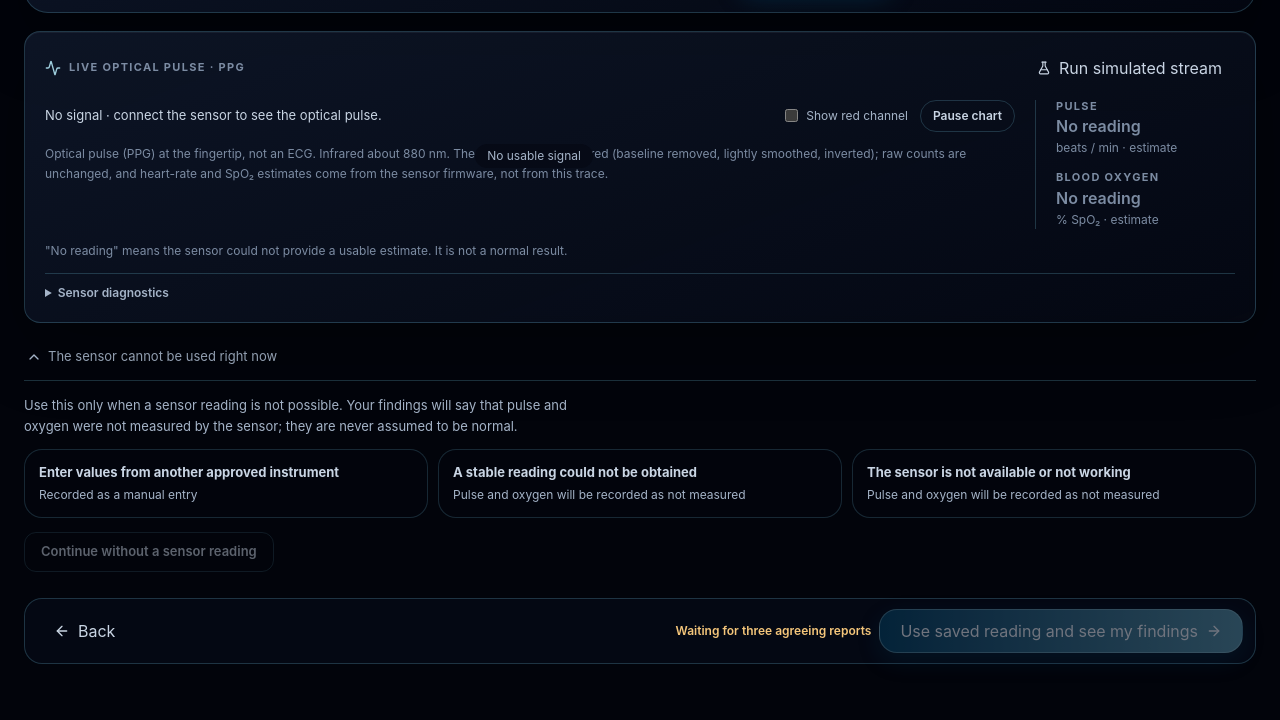
it: MeasurePage › accepts values from another instrument through the fallback only
The image size is (1280, 720).
Earlier steps of the test are not shown.
Later steps or results of the test are not shown.
(page scrolled)
Click the radio button labelled "Enter values from another approved instrument".
click(189, 472)  # box [24, 449, 428, 518]
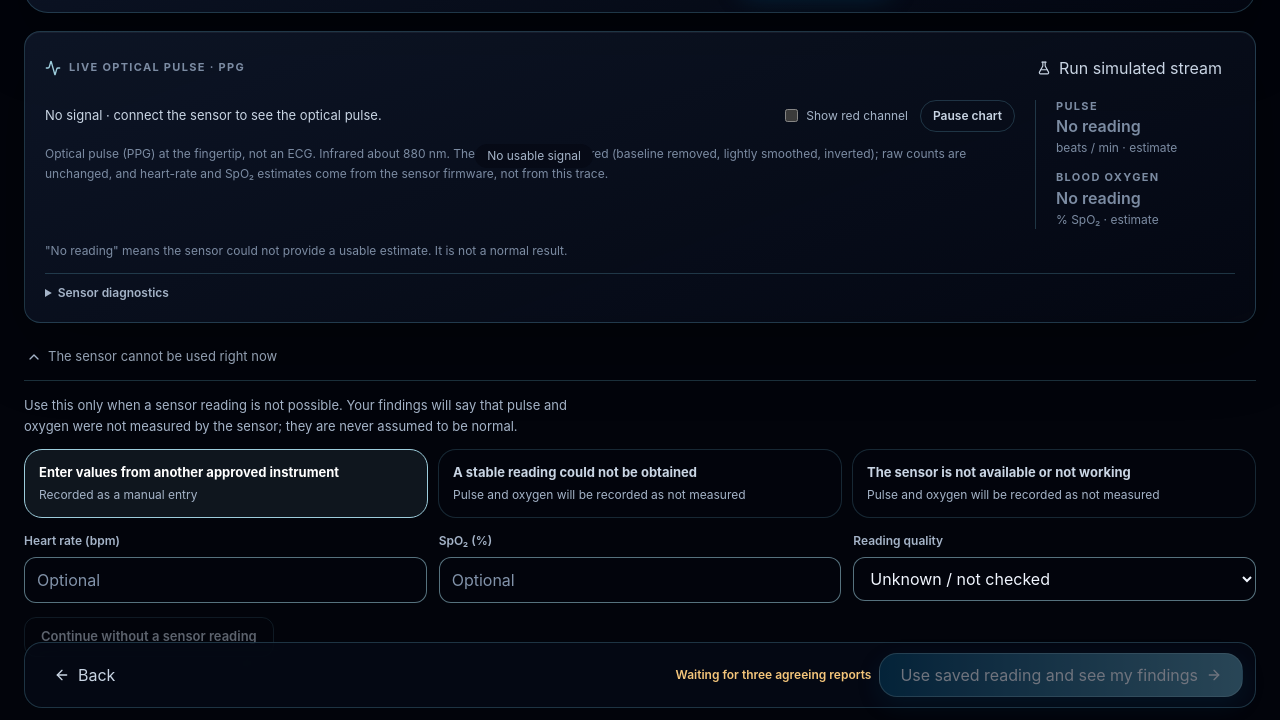
Now the button "Continue without a sensor reading" is disabled, box [24, 616, 274, 656]
Type "abc" into the field labelled "SpO₂ (%)".
click(640, 580); type("abc")  # box [439, 556, 841, 602]
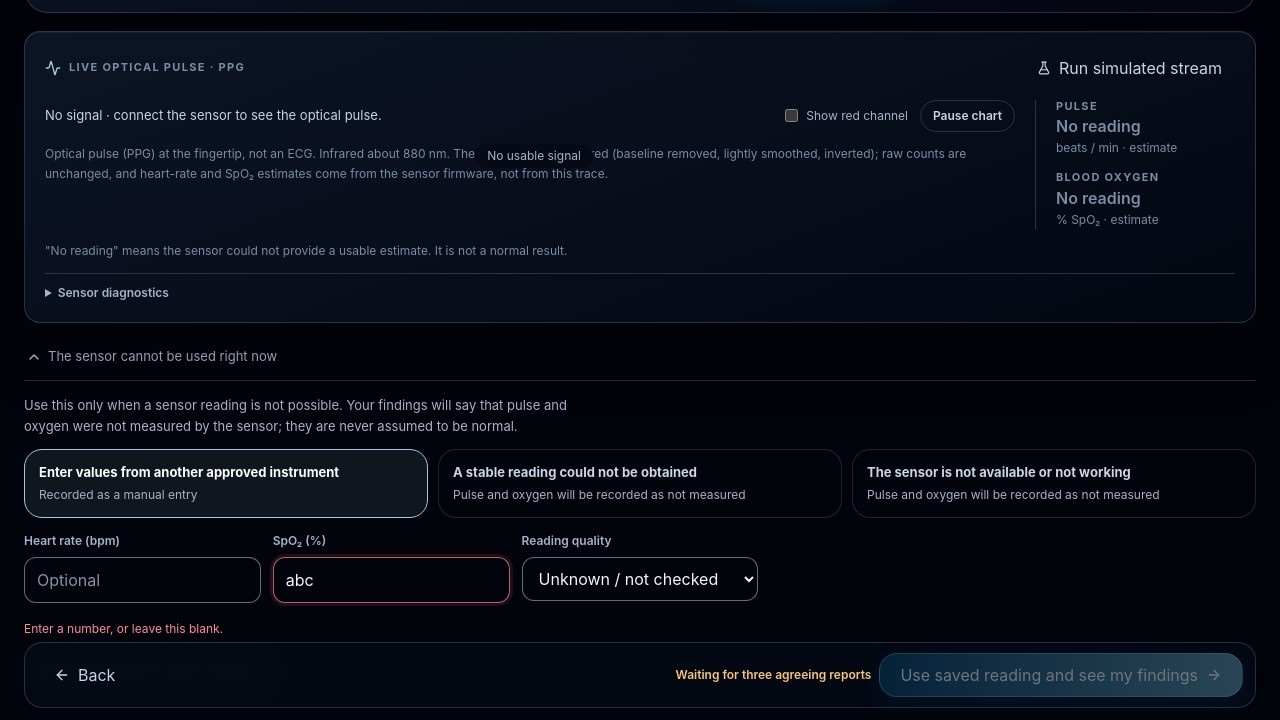
Now the text "Enter a number, or leave this blank." is shown, box [24, 620, 223, 636]
